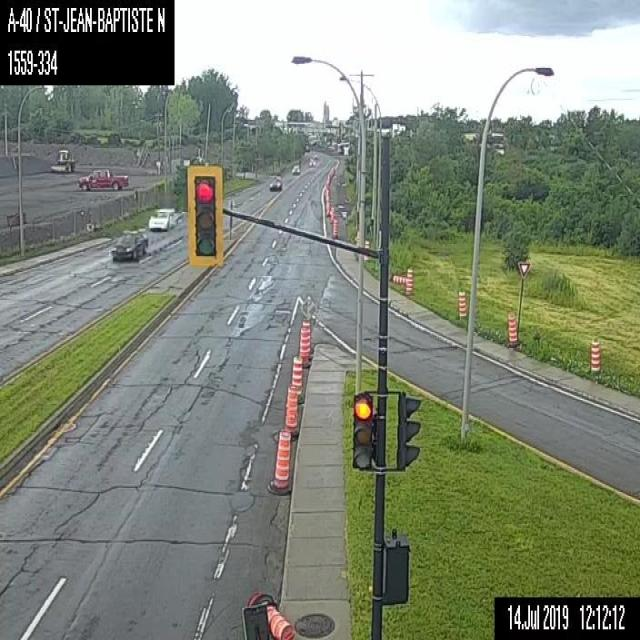construction: (242, 590, 292, 638), (266, 429, 292, 493), (282, 384, 300, 438), (299, 317, 311, 367), (290, 354, 302, 403), (507, 312, 518, 344), (590, 338, 598, 374), (458, 288, 467, 320), (405, 265, 413, 296), (392, 274, 406, 283), (330, 206, 334, 222), (326, 196, 329, 215), (333, 219, 336, 236), (268, 634, 273, 638)
vehicle: (111, 229, 147, 259), (77, 168, 128, 188), (147, 207, 175, 230), (49, 148, 75, 172), (268, 177, 282, 191), (291, 164, 299, 173), (308, 157, 316, 166)
